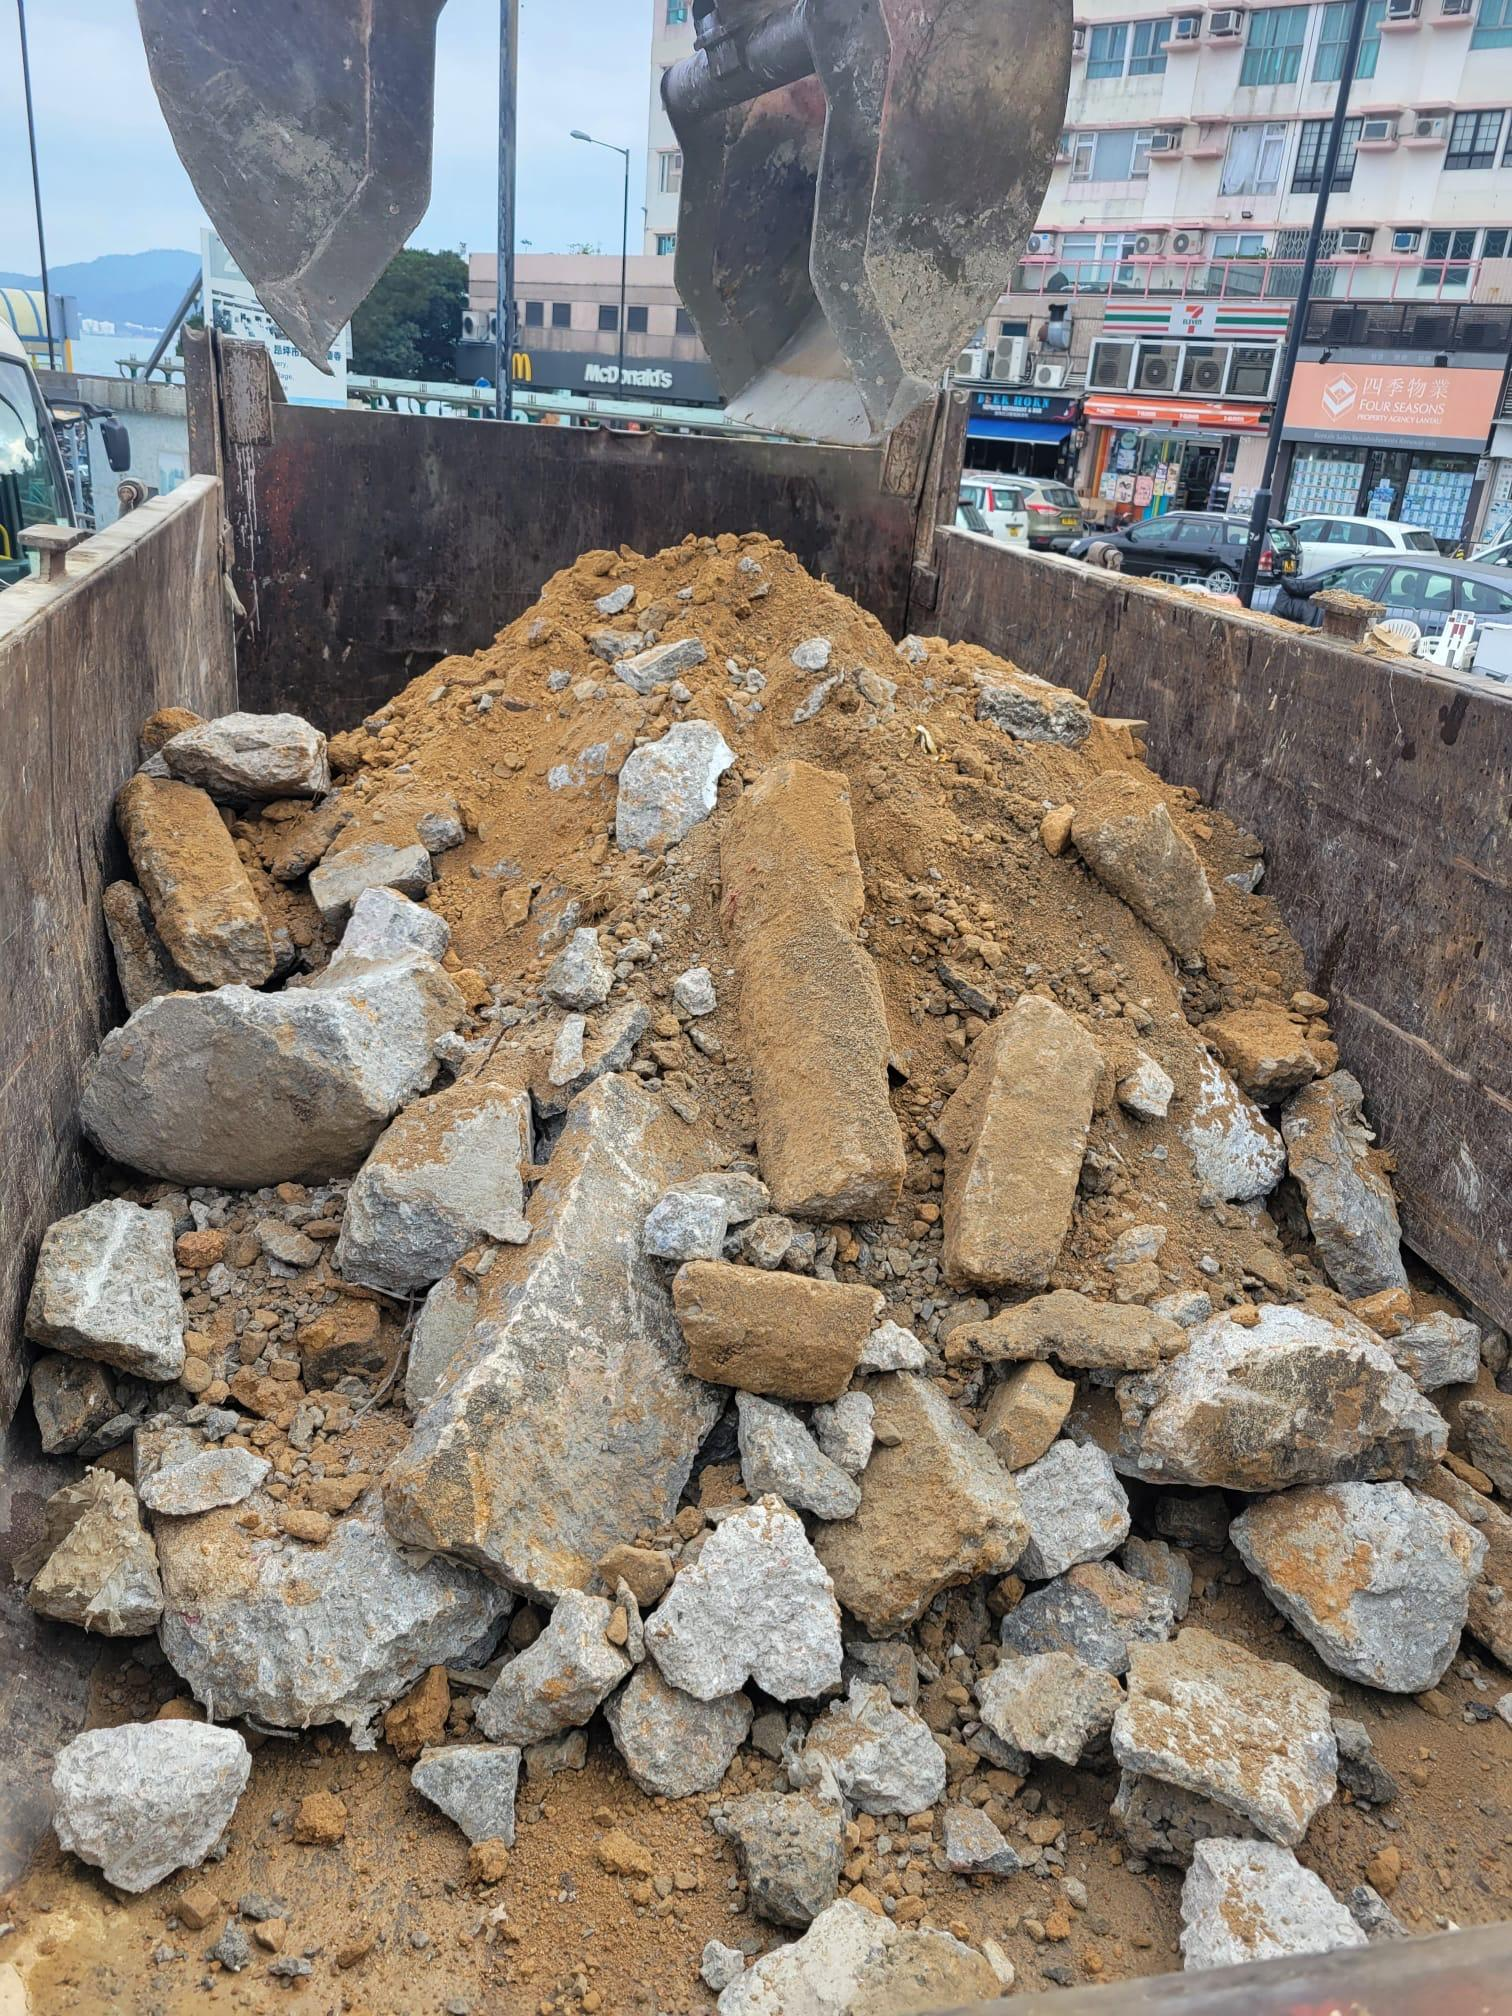dirt: (2, 525, 1507, 2011)
stone: (76, 946, 464, 1187), (715, 756, 907, 1222), (1226, 1476, 1488, 1695), (932, 991, 1105, 1291), (1109, 1624, 1339, 1848), (640, 1494, 843, 1703), (48, 1714, 251, 1894), (669, 1256, 885, 1402), (22, 1195, 187, 1383), (611, 718, 735, 852)
